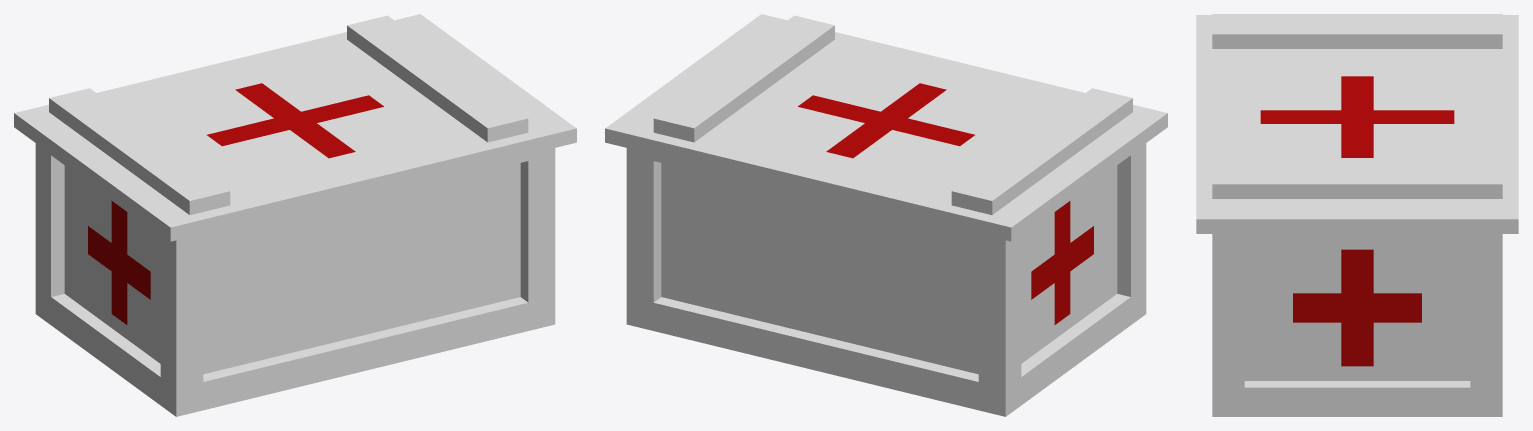
The model's file is Medkit.obj.
3 views of the same model, side by side, from view 1: azimuth 30°, elevation 25°; view 2: azimuth 150°, elevation 25°; view 3: azimuth 270°, elevation 25° (orthographic). The views are drawn at different scales.
Size of the model in its own units: 3 by 1.5 by 2.
Materials: 1 (1 with a texture image).
